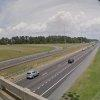Car: (23, 68, 40, 80)
